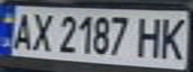1: (75, 12, 93, 54)
2: (54, 11, 78, 54)
7: (109, 12, 136, 56)
8: (90, 12, 115, 55)
A: (6, 9, 36, 52)
H: (133, 12, 166, 59)
K: (154, 13, 190, 60)
X: (27, 9, 57, 53)
